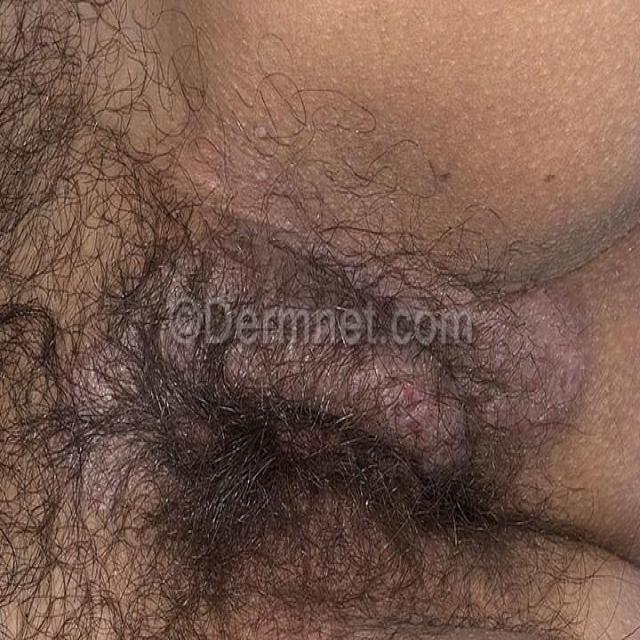Eczema: (70, 243, 572, 501)
